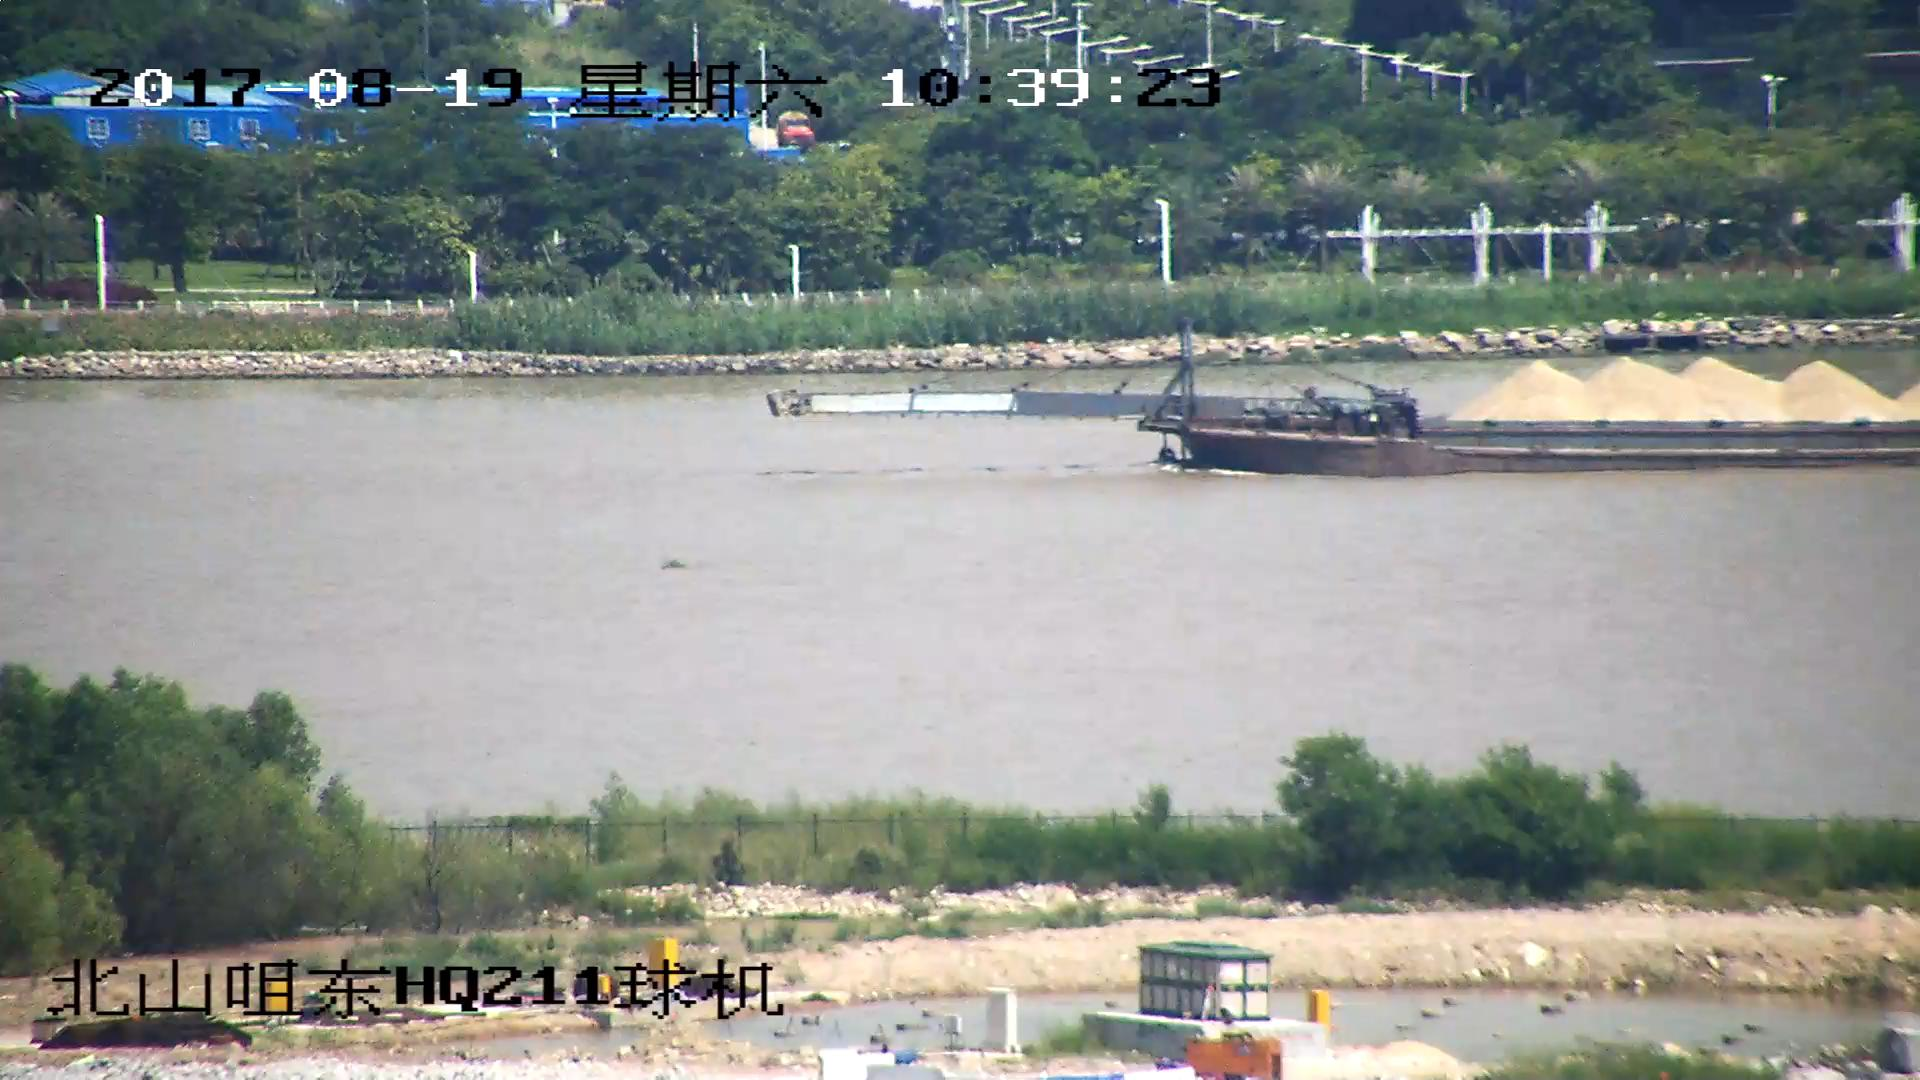ore carrier: (766, 320, 1920, 474)
